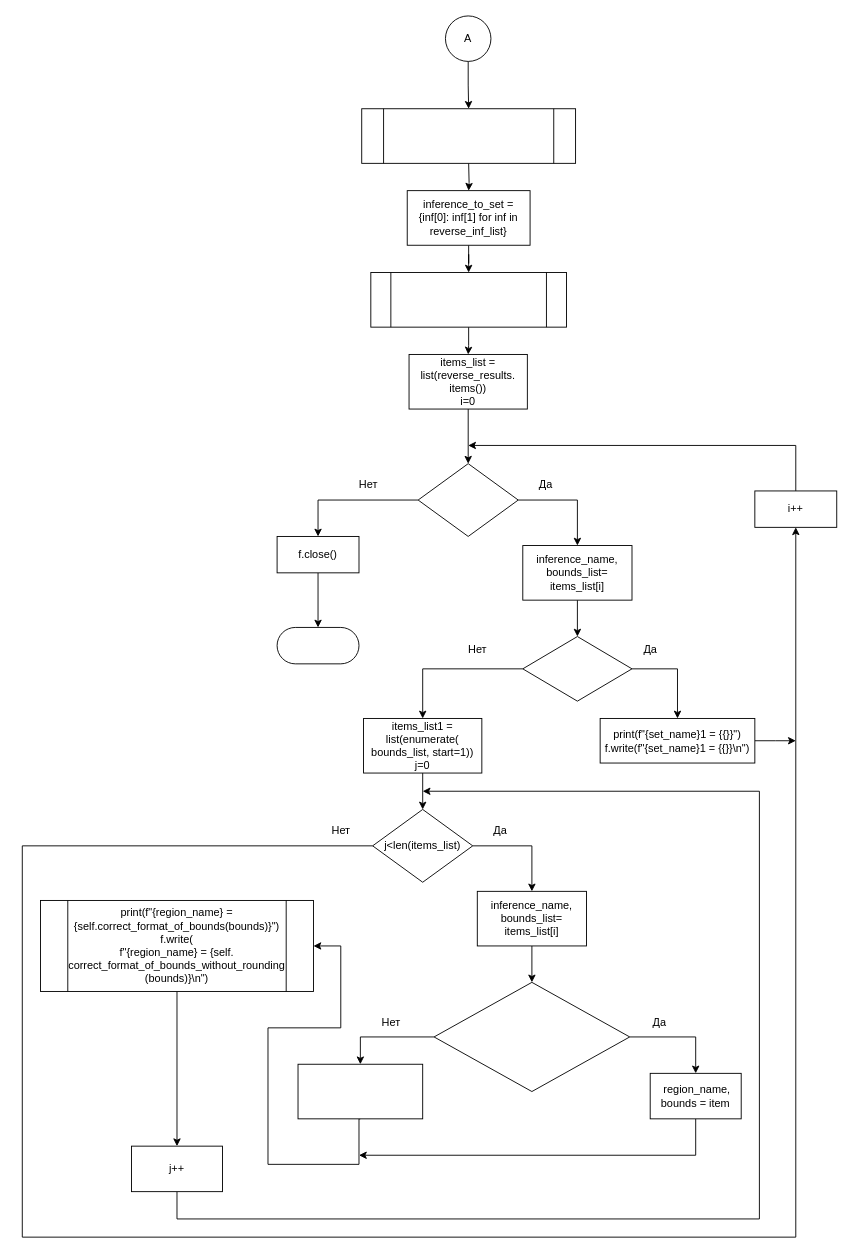
The diagram is 853 pixels wide and 1260 high, and some of its shapes have lost their labels. Here are the shapes that lost their labels. From the top down, the centre of each, then its label:
pixel 468 135: reverse_inf_list = engine.get_reverse_inferences()
pixel 468 299: reverse_results = engine.get_reverse_results()
pixel 467 499: i<len(items_list)
pixel 317 645: end
pixel 577 668: not bounds_list
pixel 531 1036: isinstance(item, tuple) and len(item) == 2 and isinstance(item[0], str)
pixel 360 1091: region_name = f"{set_name}{idx}" bounds = item
